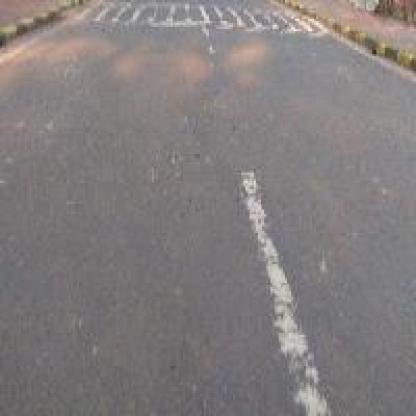Speed Bump: (77, 2, 289, 21)
